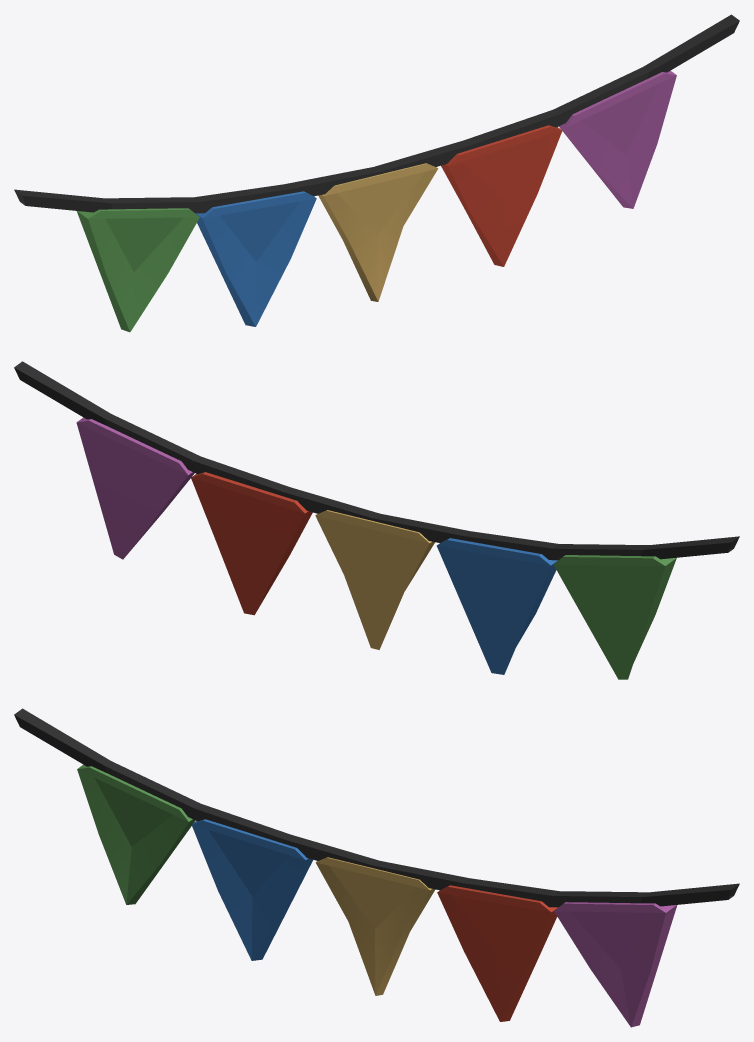
Rendered from city_SM_Prop_Flags_01.gltf.
3 renders of one model, top to bottom at view 1: azimuth 30°, elevation 25°; view 2: azimuth 150°, elevation 25°; view 3: azimuth 330°, elevation 25°, orthographic.
Visible parts, largest first — view 1: SM_Prop_Flags_01; view 2: SM_Prop_Flags_01; view 3: SM_Prop_Flags_01.
Part boxes in pixels (x1,y1,x2,y2): SM_Prop_Flags_01: [14, 14, 739, 332]; SM_Prop_Flags_01: [14, 361, 739, 679]; SM_Prop_Flags_01: [14, 708, 739, 1027].
Bounding box in the file's own units: 1.69 × 0.4402 × 0.0473.
Materials: 1 (1 with a texture image).
